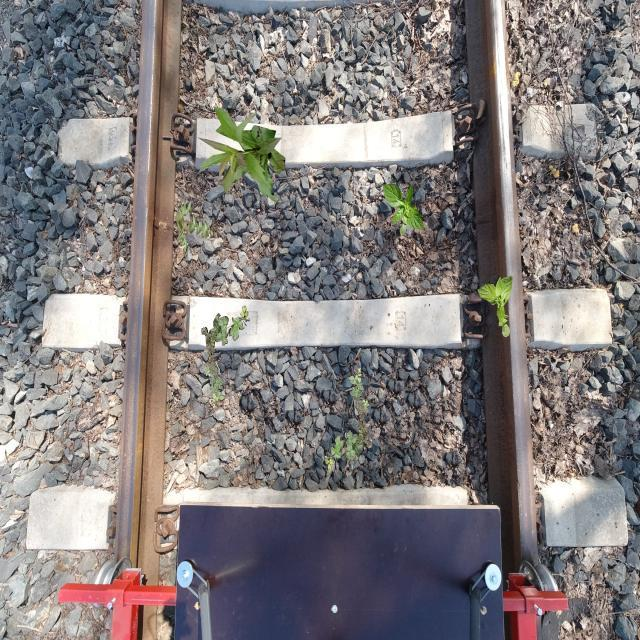Plant: (197, 106, 286, 204), (201, 306, 250, 409), (324, 367, 372, 470), (382, 182, 424, 236), (173, 200, 214, 254), (477, 275, 512, 338)
